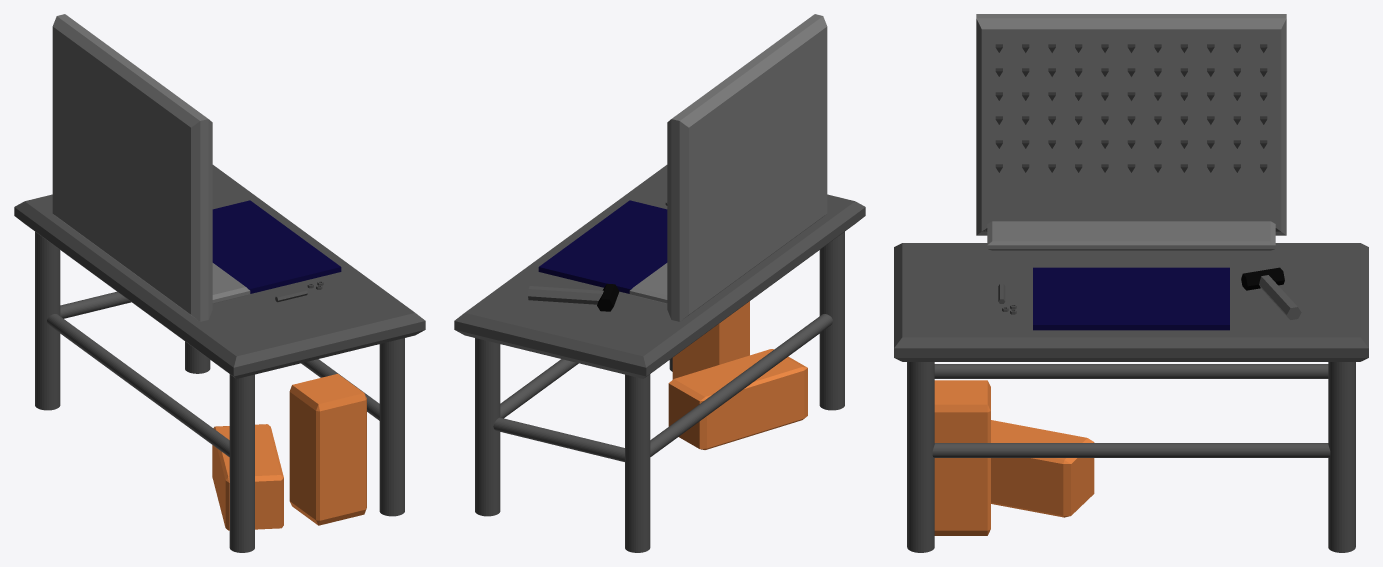
The model's file is workbench.fbx.
The picture shows the model from 3 angles, left to right: view 1: azimuth 30°, elevation 25°; view 2: azimuth 150°, elevation 25°; view 3: azimuth 270°, elevation 25°; orthographic projection. The views are drawn at different scales.
Visible parts, largest first — view 1: Table; view 2: Table; view 3: Table.
Part boxes in pixels (x1,y1,x2,y2): Table: (14, 14, 425, 552); Table: (454, 14, 865, 552); Table: (894, 14, 1368, 552).
Bounding box in the file's own units: 91.65 × 186 × 180.
